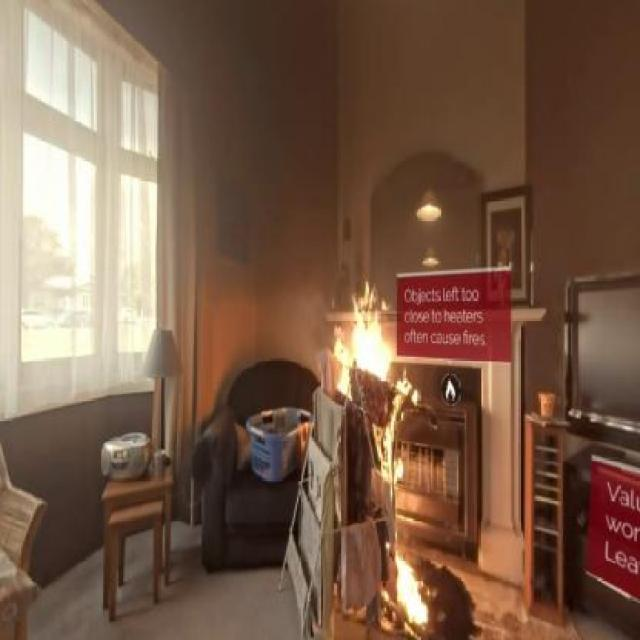fire: (326, 288, 399, 406), (382, 540, 428, 628)
smoke: (176, 12, 350, 154), (248, 166, 350, 332)
